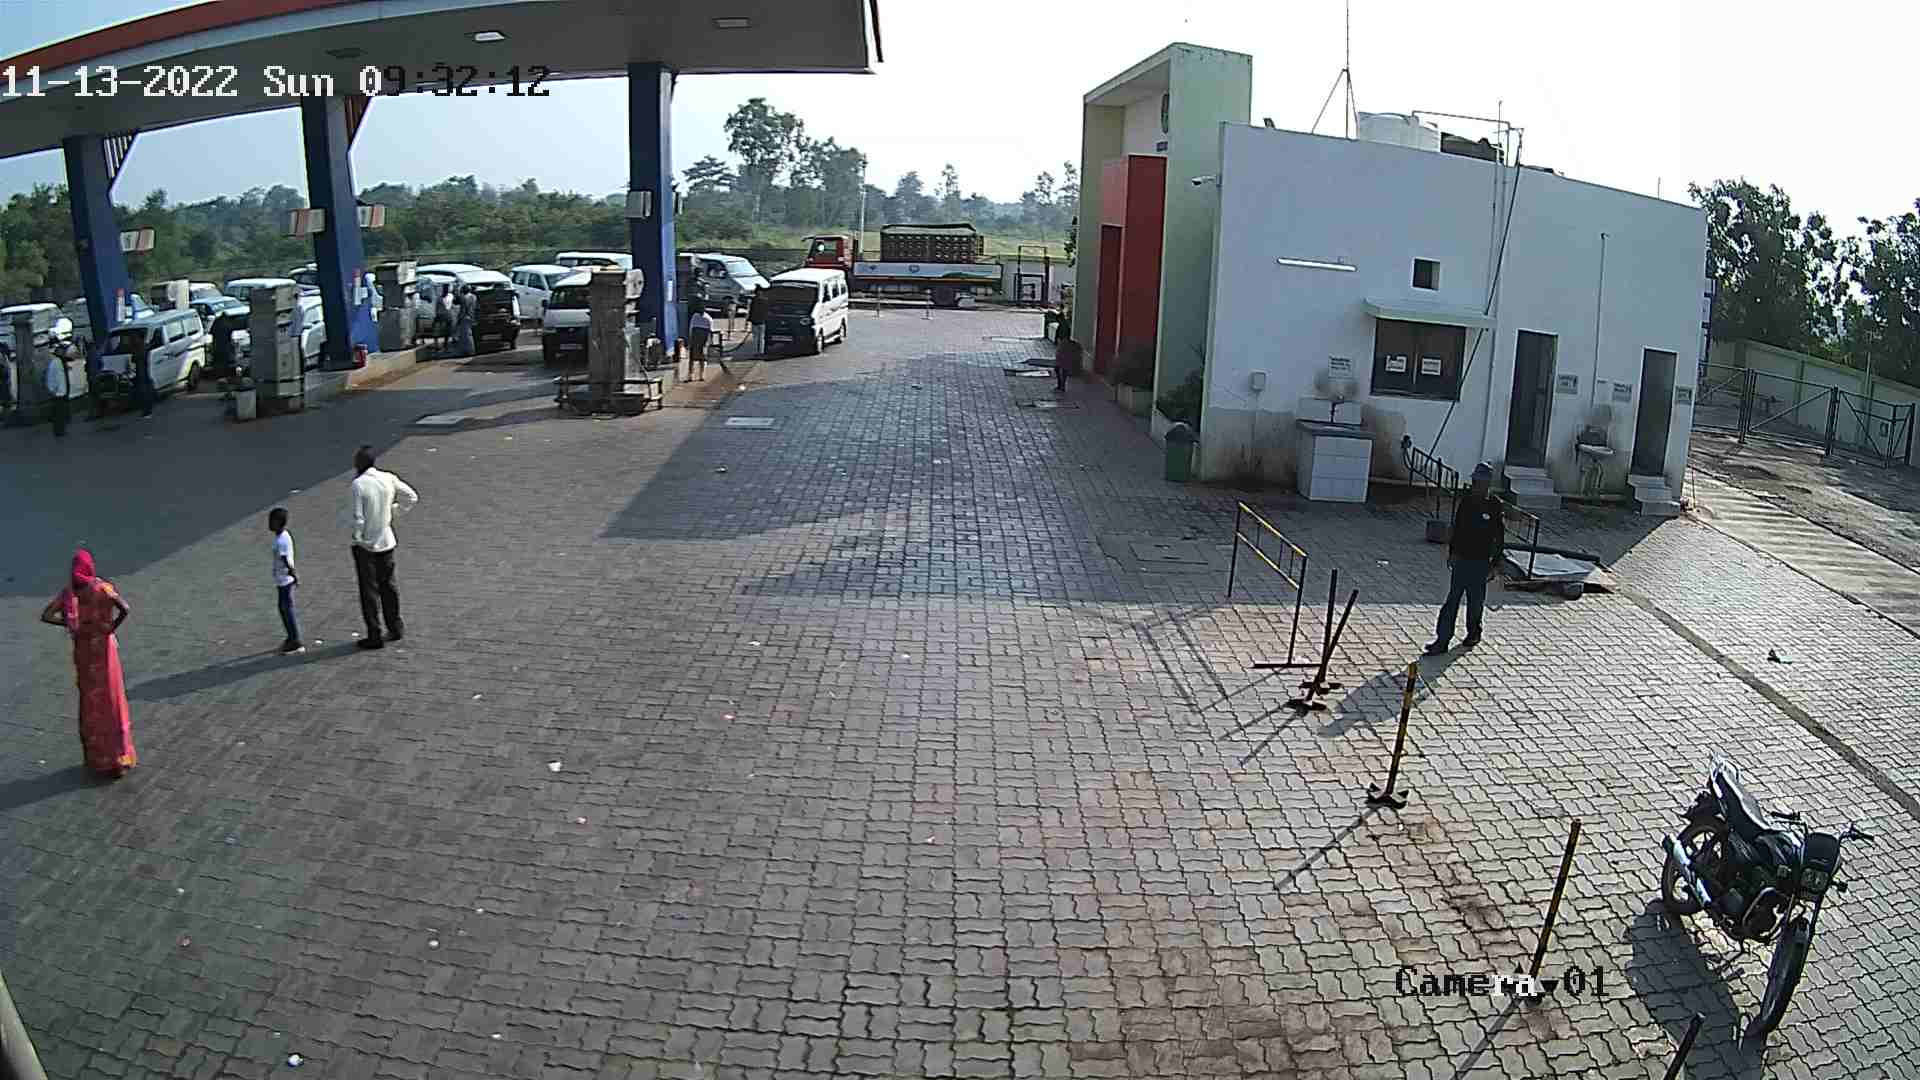Bike: (1617, 738, 1873, 1038)
Car: (80, 299, 218, 413), (744, 264, 857, 363), (527, 260, 608, 367), (440, 266, 529, 356), (678, 248, 769, 324), (191, 297, 264, 384), (0, 297, 83, 372), (498, 258, 572, 324), (287, 278, 335, 371), (406, 257, 458, 340), (185, 273, 251, 328), (225, 273, 298, 314), (549, 247, 636, 278)
HMV: (793, 215, 1013, 309)
